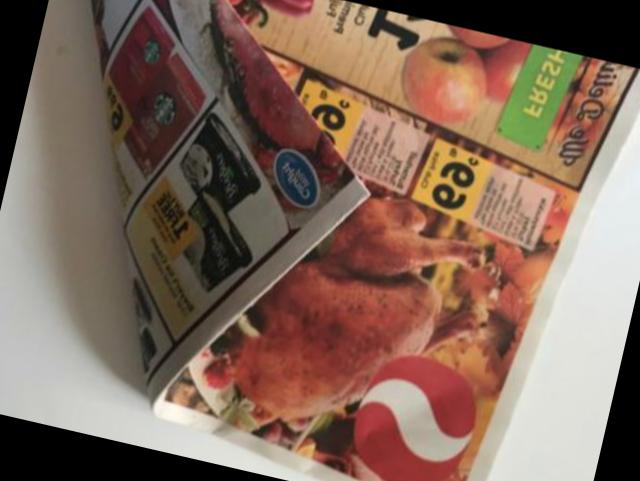cardboard paper: (92, 0, 640, 481)
